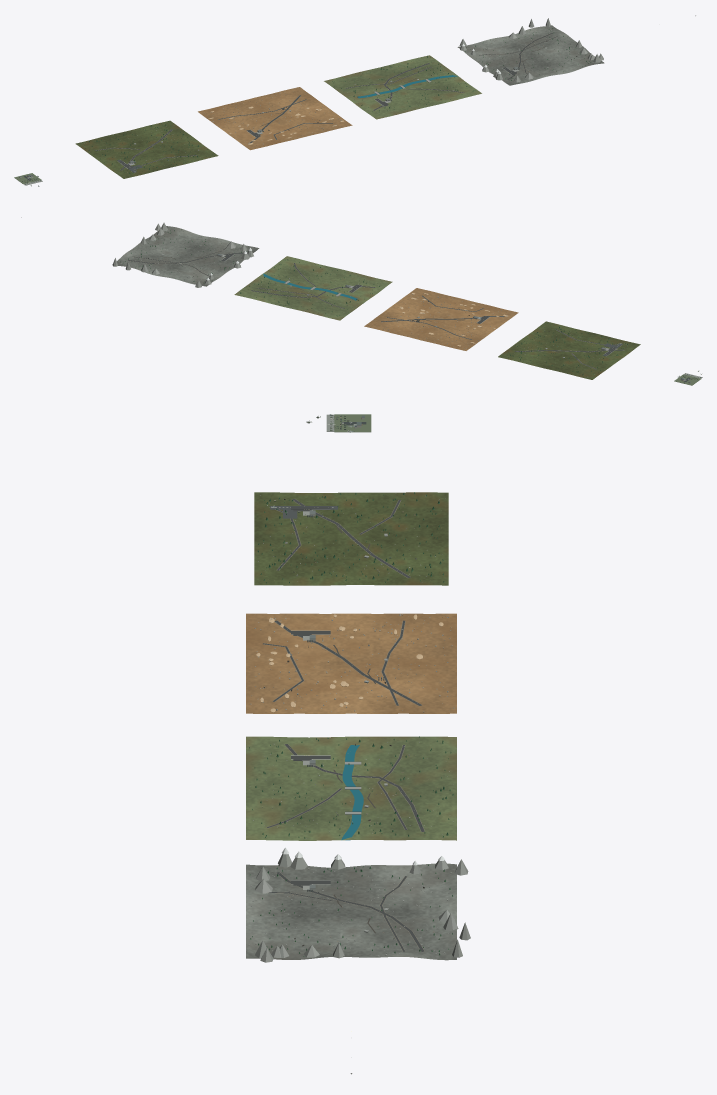
File: combined-arms-r28.glb
The picture shows the model from 3 angles, top to bottom: view 1: azimuth 30°, elevation 25°; view 2: azimuth 150°, elevation 25°; view 3: azimuth 270°, elevation 25°; orthographic projection. The views are drawn at different scales.
Visible parts, largest first — view 1: ENV_RIVER_CROSSING_TERRAIN, ENV_RED_BASIN_TERRAIN, ENV_ALPINE_PASS_TERRAIN, ENV_PINE_VALLEY_TERRAIN, ENV_ALPINE_PASS_BIOME_SCATTER, ENV_RIVER_CROSSING_ROAD_NETWORK, ENV_RED_BASIN_ROAD_NETWORK; view 2: ENV_RIVER_CROSSING_TERRAIN, ENV_RED_BASIN_TERRAIN, ENV_ALPINE_PASS_TERRAIN, ENV_PINE_VALLEY_TERRAIN, ENV_ALPINE_PASS_BIOME_SCATTER, ENV_RED_BASIN_ROAD_NETWORK, ENV_RIVER_CROSSING_ROAD_NETWORK, ENV_ALPINE_PASS_ROAD_NETWORK; view 3: ENV_RIVER_CROSSING_TERRAIN, ENV_RED_BASIN_TERRAIN, ENV_ALPINE_PASS_TERRAIN, ENV_PINE_VALLEY_TERRAIN, ENV_ALPINE_PASS_BIOME_SCATTER, ENV_RED_BASIN_ROAD_NETWORK.
Boxes of the visible parts, x1,y1,x2,y2 form: ENV_RIVER_CROSSING_TERRAIN: (324,55,481,119); ENV_RED_BASIN_TERRAIN: (198,87,352,150); ENV_ALPINE_PASS_TERRAIN: (457,25,604,85); ENV_PINE_VALLEY_TERRAIN: (75,120,218,178); ENV_ALPINE_PASS_BIOME_SCATTER: (459,18,603,82); ENV_RIVER_CROSSING_ROAD_NETWORK: (345,63,464,110); ENV_RED_BASIN_ROAD_NETWORK: (218,95,333,143); ENV_RIVER_CROSSING_TERRAIN: (234,256,392,320); ENV_RED_BASIN_TERRAIN: (364,288,518,350); ENV_ALPINE_PASS_TERRAIN: (112,226,259,286); ENV_PINE_VALLEY_TERRAIN: (498,321,640,379); ENV_ALPINE_PASS_BIOME_SCATTER: (112,222,253,287); ENV_RED_BASIN_ROAD_NETWORK: (381,295,504,339); ENV_RIVER_CROSSING_ROAD_NETWORK: (251,263,375,308); ENV_ALPINE_PASS_ROAD_NETWORK: (127,247,243,276); ENV_RIVER_CROSSING_TERRAIN: (246,736,456,840); ENV_RED_BASIN_TERRAIN: (246,613,456,713); ENV_ALPINE_PASS_TERRAIN: (246,863,456,960); ENV_PINE_VALLEY_TERRAIN: (254,492,448,585); ENV_ALPINE_PASS_BIOME_SCATTER: (255,847,470,962); ENV_RED_BASIN_ROAD_NETWORK: (263,620,422,705).
Size of what is drawn, in the model's own units: 3740 by 53.66 by 533.
Materials: 106 (4 with a texture image).
